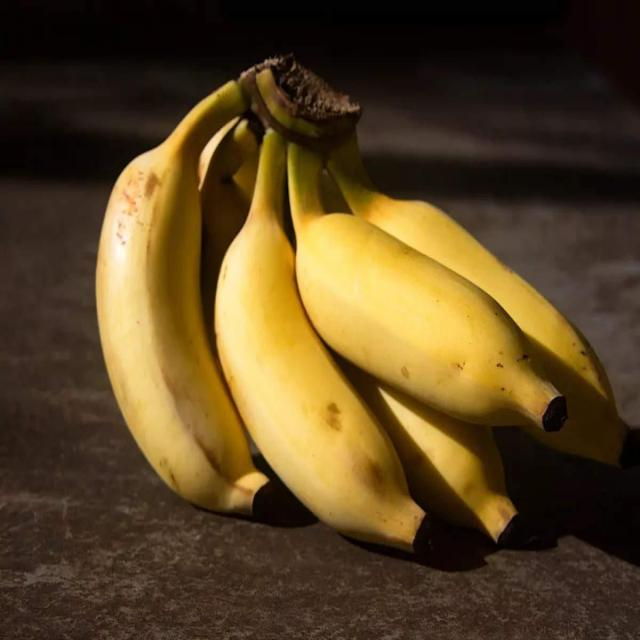banana: (84, 48, 628, 564)
